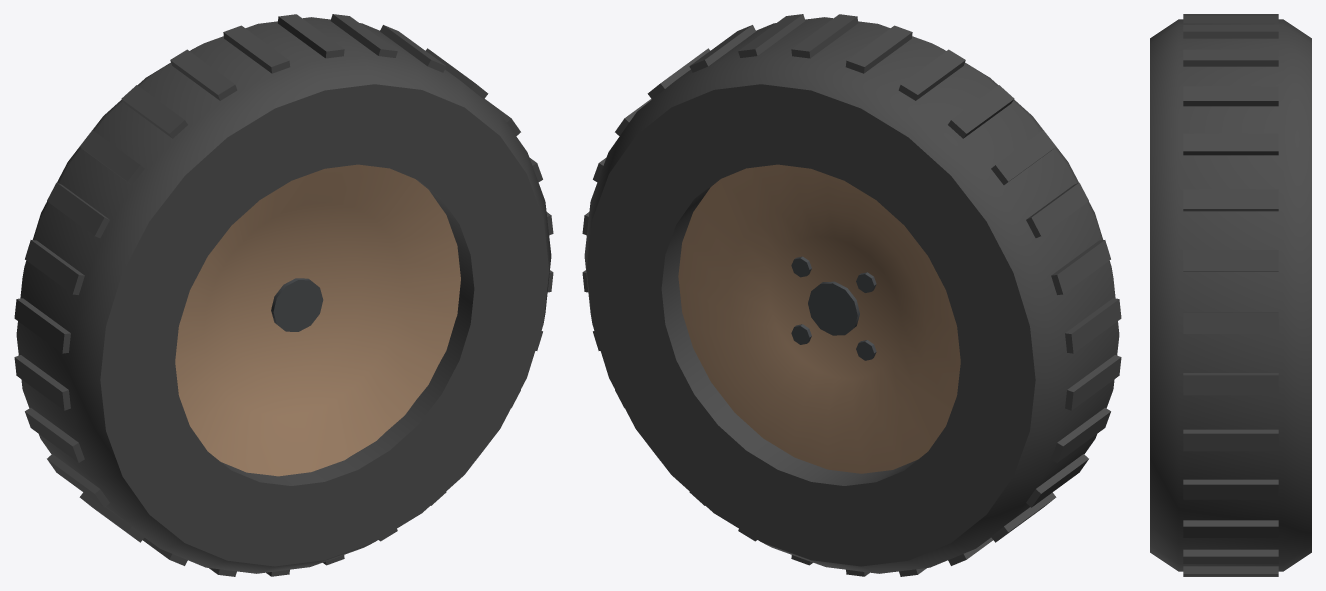
The model's file is car_wheel.glb.
The picture shows the model from 3 angles, left to right: view 1: azimuth 30°, elevation 25°; view 2: azimuth 150°, elevation 25°; view 3: azimuth 270°, elevation 25°; orthographic projection.
Visible parts, largest first — view 1: body; view 2: body; view 3: body.
Part boxes in pixels (<box>): body: <box>14,14,553,576</box>; body: <box>582,14,1121,576</box>; body: <box>1150,14,1311,576</box>.
Size of the model in its own units: 0.5907 by 0.5907 by 0.17.
